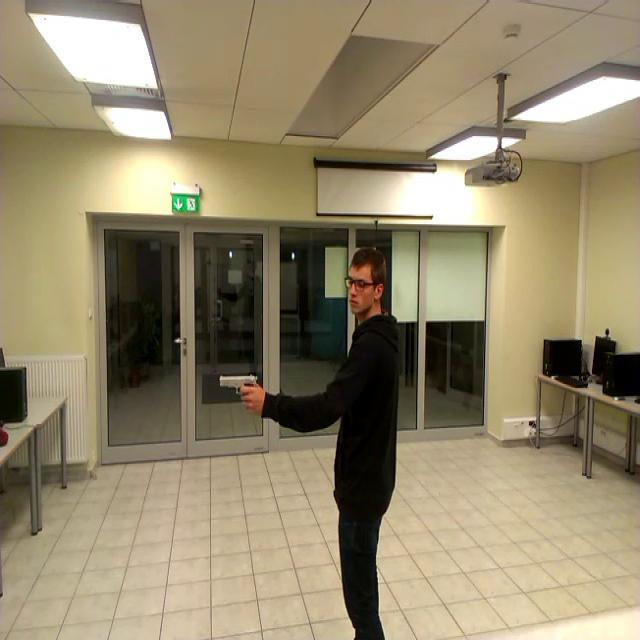Gun: (220, 374, 259, 407)
